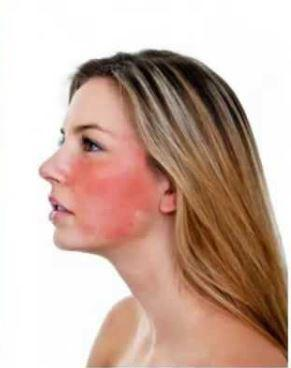Drunk: (36, 89, 146, 252)
